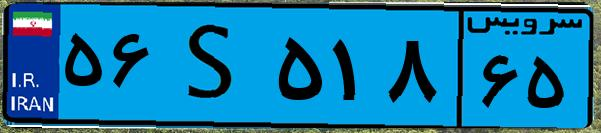1: (330, 28, 385, 110)
5: (270, 28, 330, 110), (57, 26, 110, 100), (525, 38, 570, 115)
6: (475, 38, 525, 113), (110, 28, 158, 98)
8: (385, 28, 445, 110)
S: (158, 12, 270, 120)
